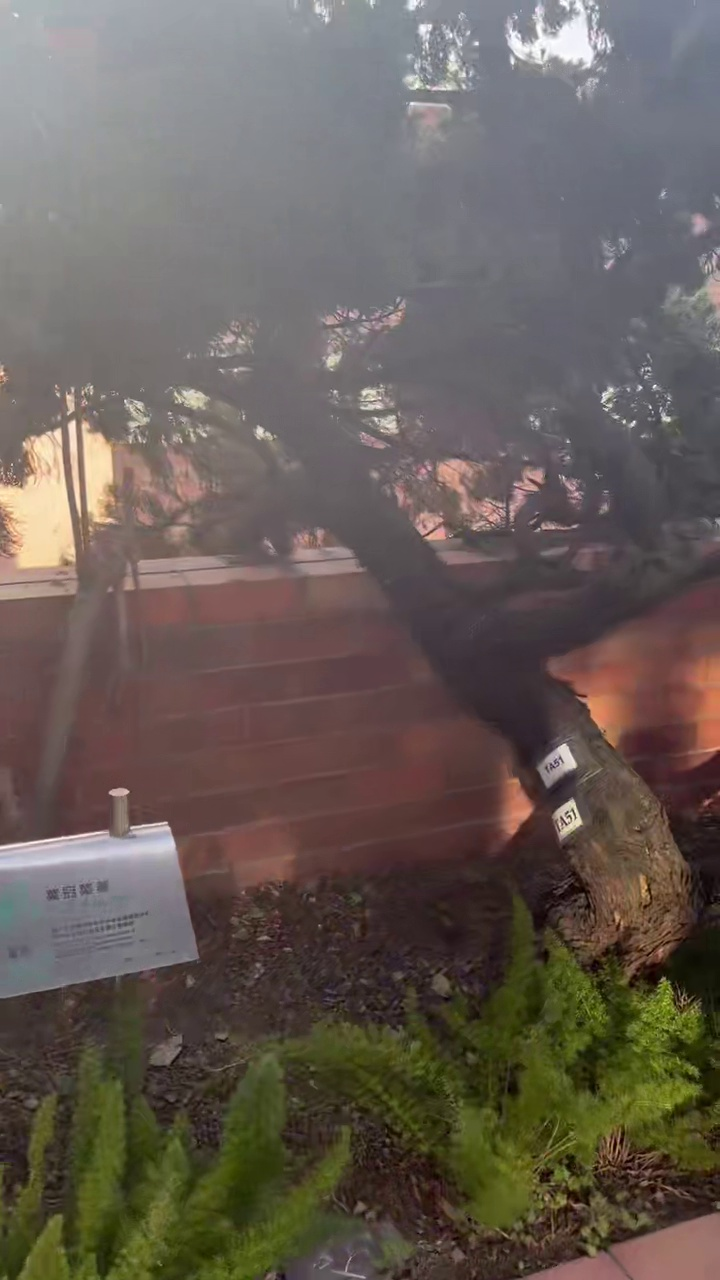Juniperus chinensis: (0, 0, 719, 971)
